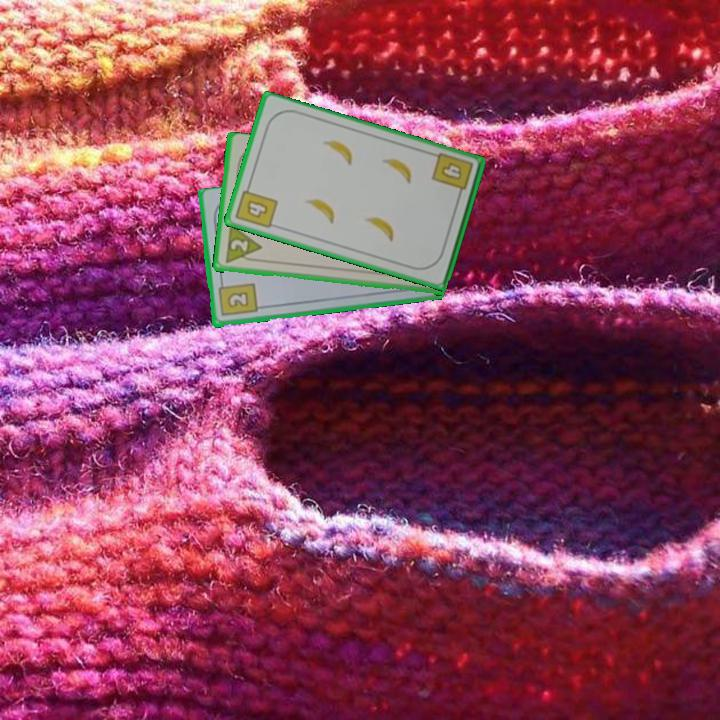2b: (214, 277, 259, 319)
2p: (221, 223, 264, 267)
4b: (428, 149, 476, 201), (232, 180, 280, 231)
